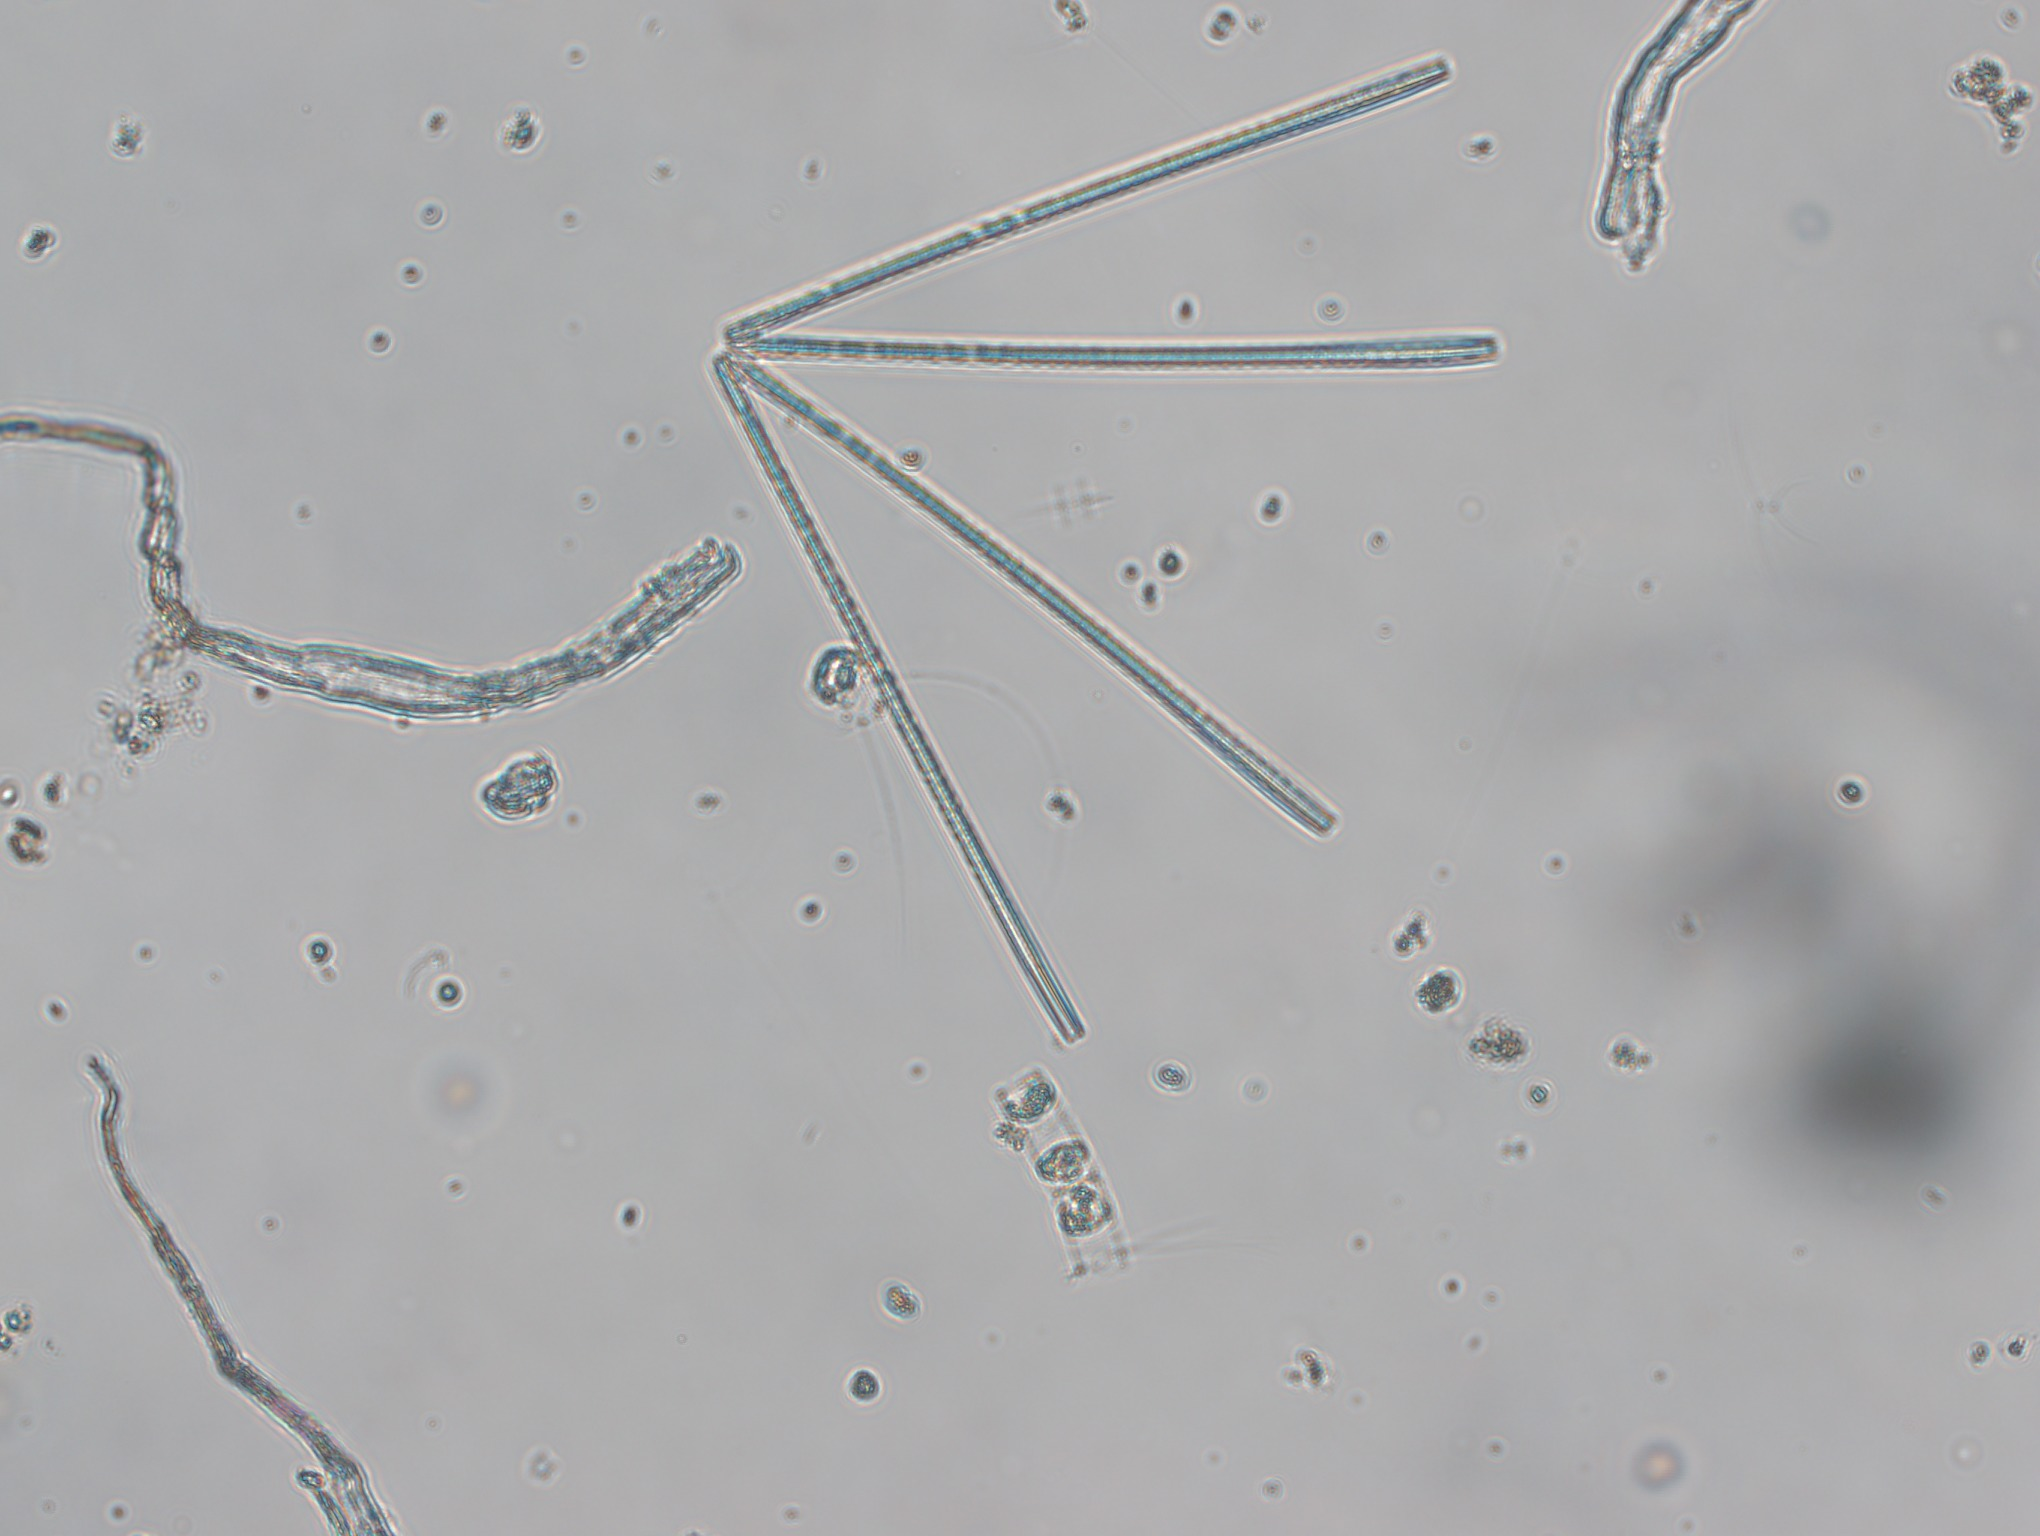chaetoceros: (990, 1060, 1239, 1281)
thalassionema frauenfeldii: (706, 53, 1503, 1046)
